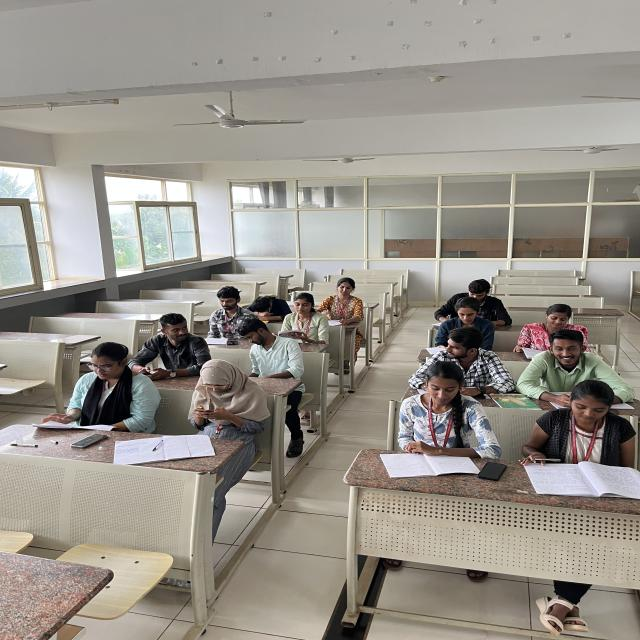Reading: (46, 336, 157, 432), (398, 359, 488, 469), (512, 301, 594, 358), (283, 289, 330, 347)
Sleeping: (245, 288, 292, 324)
Using Phone: (180, 354, 261, 436), (132, 312, 210, 383)
Writing: (526, 377, 640, 484)
